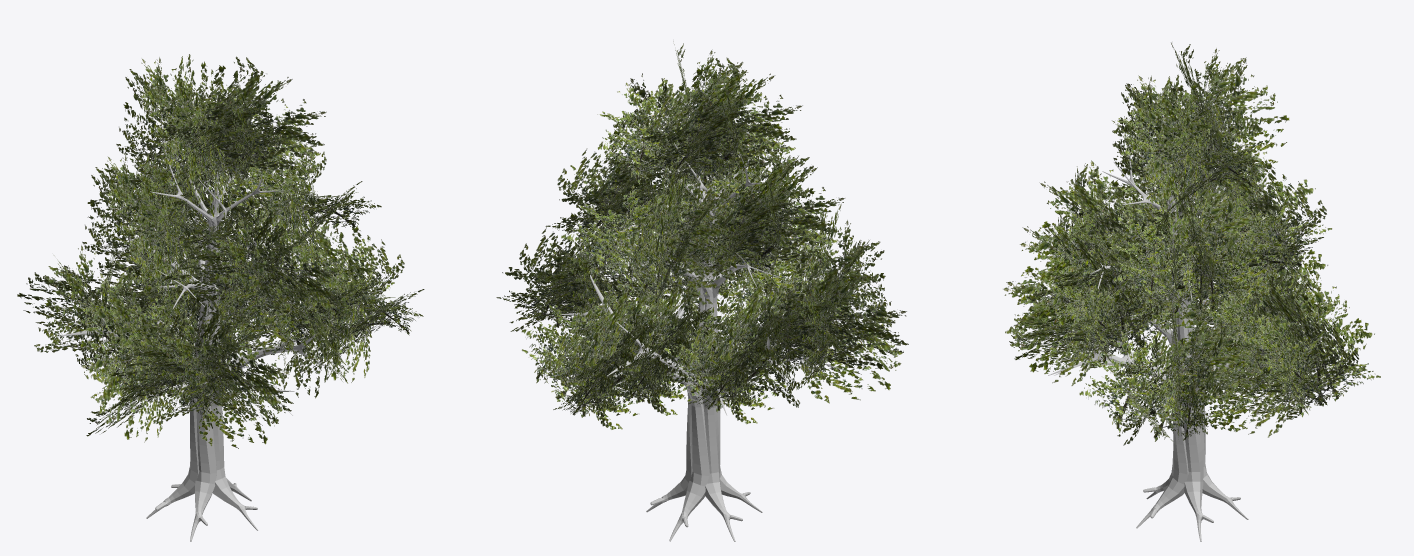
File: Tree_4.fbx
3 renders of one model, left to right at view 1: azimuth 30°, elevation 25°; view 2: azimuth 150°, elevation 25°; view 3: azimuth 270°, elevation 25°, orthographic.
Parts seen in each view (by area): view 1: Tree_4_Leaves, Tree_4_Trunk; view 2: Tree_4_Leaves, Tree_4_Trunk; view 3: Tree_4_Leaves, Tree_4_Trunk.
Boxes of the visible parts, x1=… form: Tree_4_Leaves: x1=17, y1=54, x2=424, y2=448; Tree_4_Trunk: x1=55, y1=146, x2=340, y2=541; Tree_4_Leaves: x1=496, y1=41, x2=908, y2=429; Tree_4_Trunk: x1=561, y1=123, x2=845, y2=541; Tree_4_Leaves: x1=1003, y1=42, x2=1380, y2=445; Tree_4_Trunk: x1=1048, y1=135, x2=1332, y2=541.
Bounding box in the file's own units: 487 × 584 × 456.
